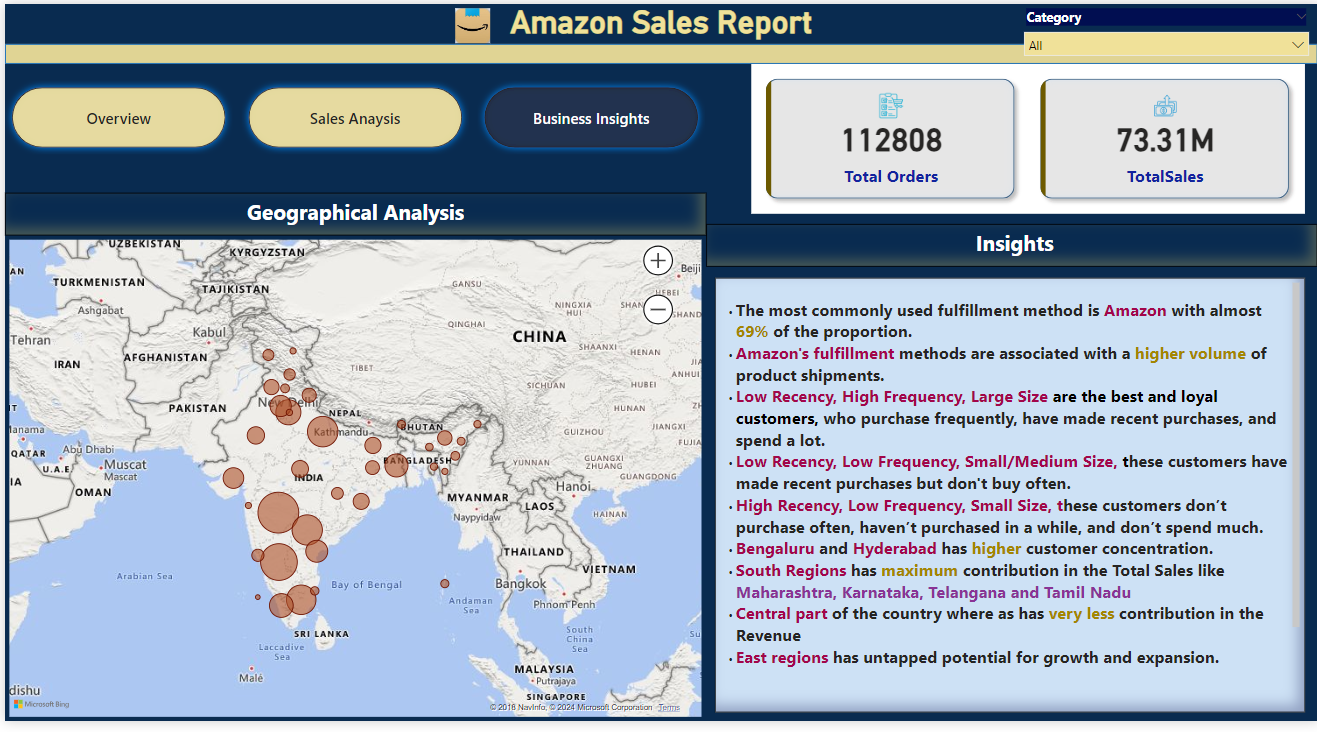

The dashboard page shown, as its layout file describes it:
{"tool":"powerbi","page":{"name":"Business Insights","canvas":[1500,820],"ordinal":2},"visuals":[{"type":"map","fields":{"Category":["Amazon Sale Report.ship-state","Amazon Sale Report.ship-city"],"Size":["Amazon Sale Report.TotalSales"]},"box":[0,264.3,801.4,555.7],"z":0},{"type":"shape","title":"Amazon Sales Report","box":[0,0,1500,68.6],"z":1000},{"type":"slicer","fields":{"Values":["Amazon Sale Report.Category"]},"box":[1154.3,0,345.7,68.6],"z":2000},{"type":"textbox","box":[0,215.7,801.4,48.6],"z":3000},{"type":"pageNavigator","box":[0,87.1,801.4,85.7],"z":4000},{"type":"image","box":[385.7,0,297.1,50],"z":5000},{"type":"cardVisual","fields":{"Data":["Amazon Sale Report.Total Orders","Amazon Sale Report.TotalSales"]},"box":[852.9,68.6,632.9,171.4],"z":6000},{"type":"textbox","box":[801.4,251.4,698.6,48.6],"z":7000},{"type":"textbox","box":[811.4,312.9,674.3,497.1],"z":8000}]}

Visuals, with their boxes in screenshot pixels (x1, y1, x2, y2), scaled from the page's 1500x820 canvas onto the 1317x732 screenshot:
map - Amazon Sale Report.ship-state x Amazon Sale Report.ship-city: rect(0, 236, 704, 731)
"Amazon Sales Report" shape: rect(0, 0, 1316, 61)
slicer - Amazon Sale Report.Category: rect(1013, 0, 1316, 61)
textbox: rect(0, 193, 704, 236)
pageNavigator: rect(0, 78, 704, 154)
image: rect(339, 0, 599, 45)
cardVisual - Amazon Sale Report.Total Orders x Amazon Sale Report.TotalSales: rect(749, 61, 1305, 214)
textbox: rect(704, 224, 1316, 268)
textbox: rect(712, 279, 1304, 723)
